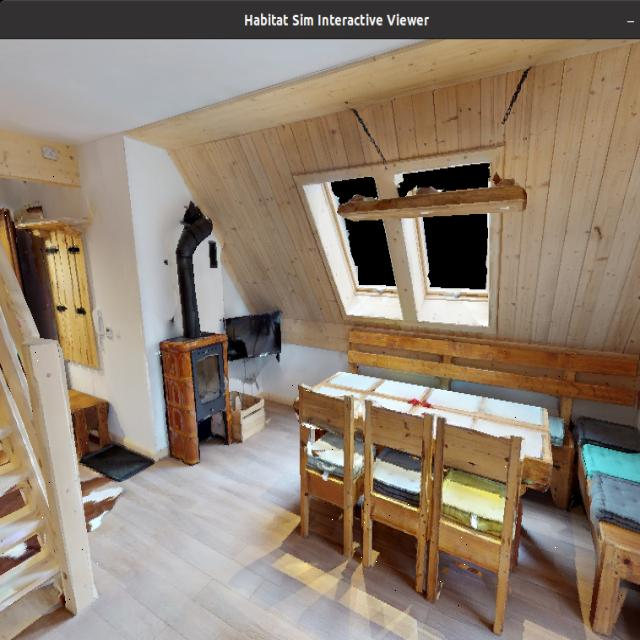chair: (554, 352, 640, 640), (426, 416, 537, 612), (356, 403, 440, 598), (287, 382, 370, 557)
stairs: (0, 161, 116, 640)
table: (292, 357, 564, 499)
